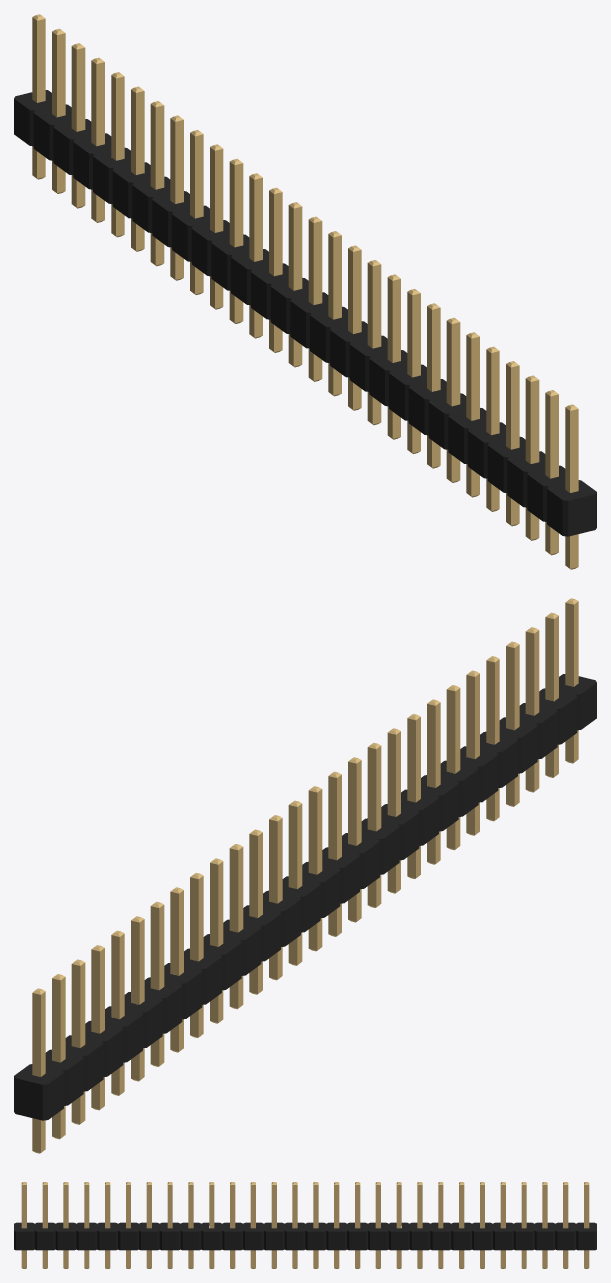
The model's file is kc-pinheader_1x28_p2.54mm_vertical.glb.
3 views of the same model, one above another, from view 1: azimuth 30°, elevation 25°; view 2: azimuth 150°, elevation 25°; view 3: azimuth 270°, elevation 25° (orthographic). The views are drawn at different scales.
Visible parts, largest first — view 1: 0.75_0.5_0.25_0.9, 0_0_0_0; view 2: 0.75_0.5_0.25_0.9, 0_0_0_0; view 3: 0_0_0_0, 0.75_0.5_0.25_0.9.
Part boxes in pixels (box(x1,y1,x2,y2)): 0.75_0.5_0.25_0.9: box(32, 14, 578, 569); 0_0_0_0: box(14, 90, 596, 536); 0.75_0.5_0.25_0.9: box(32, 598, 578, 1153); 0_0_0_0: box(14, 674, 596, 1120); 0_0_0_0: box(14, 1222, 596, 1250); 0.75_0.5_0.25_0.9: box(21, 1182, 589, 1268).
Bounding box in the file's own units: 0.2544 × 1.15 × 7.11.
